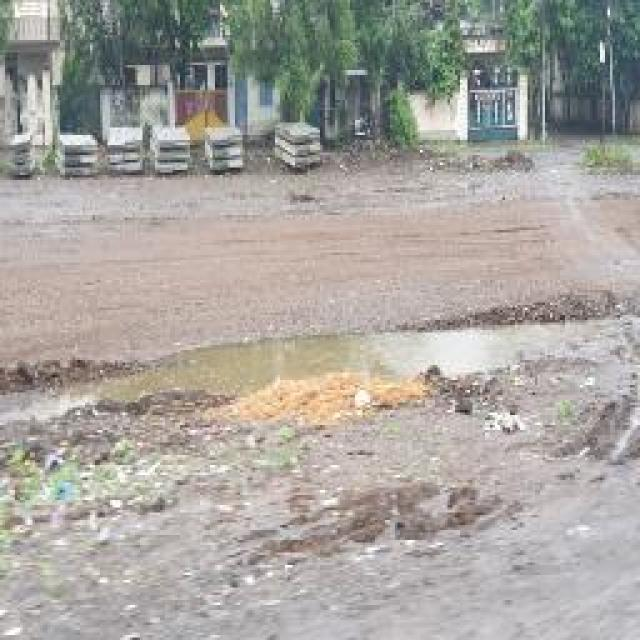puddle: (84, 320, 633, 408)
